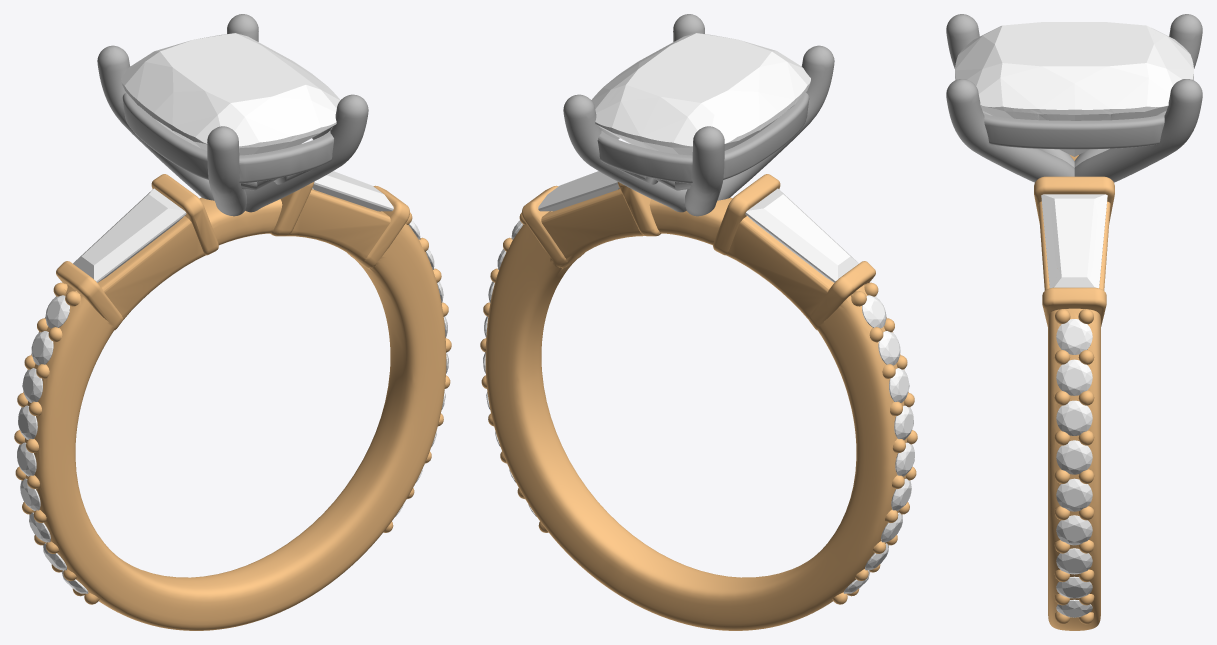
The picture shows the model from 3 angles, left to right: view 1: azimuth 30°, elevation 25°; view 2: azimuth 150°, elevation 25°; view 3: azimuth 270°, elevation 25°; orthographic projection. The views are drawn at different scales.
Bounding box in the file's own units: 2.38 × 2.97 × 1.22.
